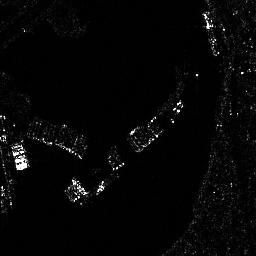ship: (207, 30, 220, 58), (202, 11, 214, 28)
